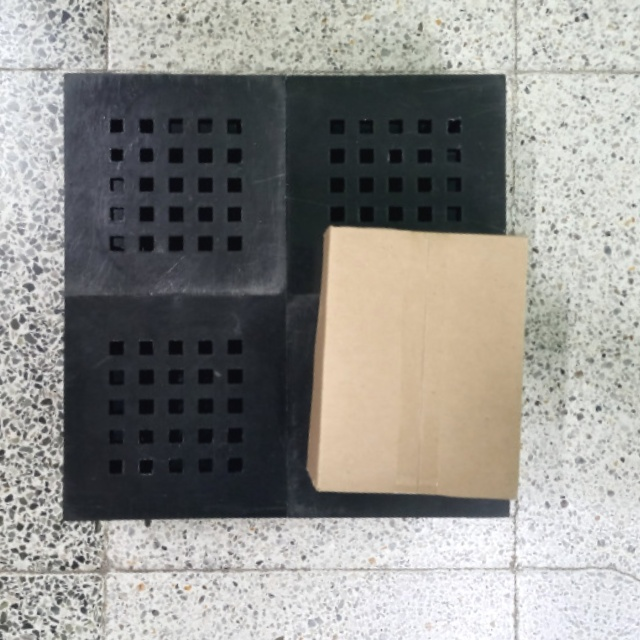box: (302, 222, 532, 501)
pallet: (58, 67, 519, 530)
